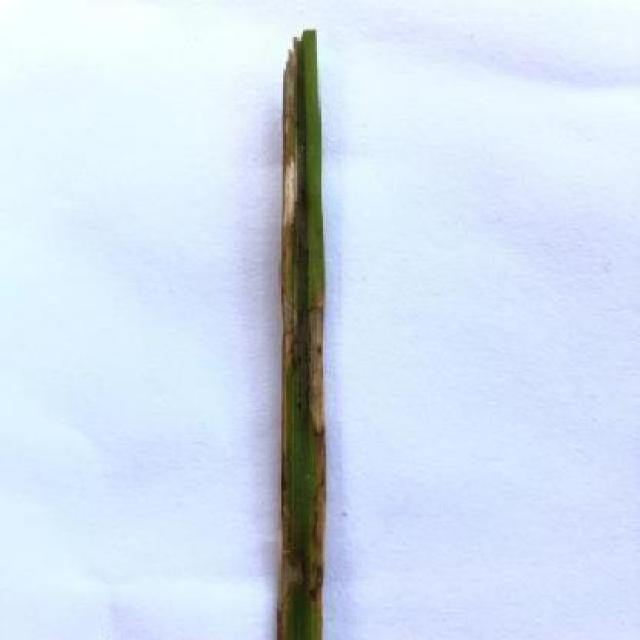Brown_Spot: (260, 15, 334, 640)
